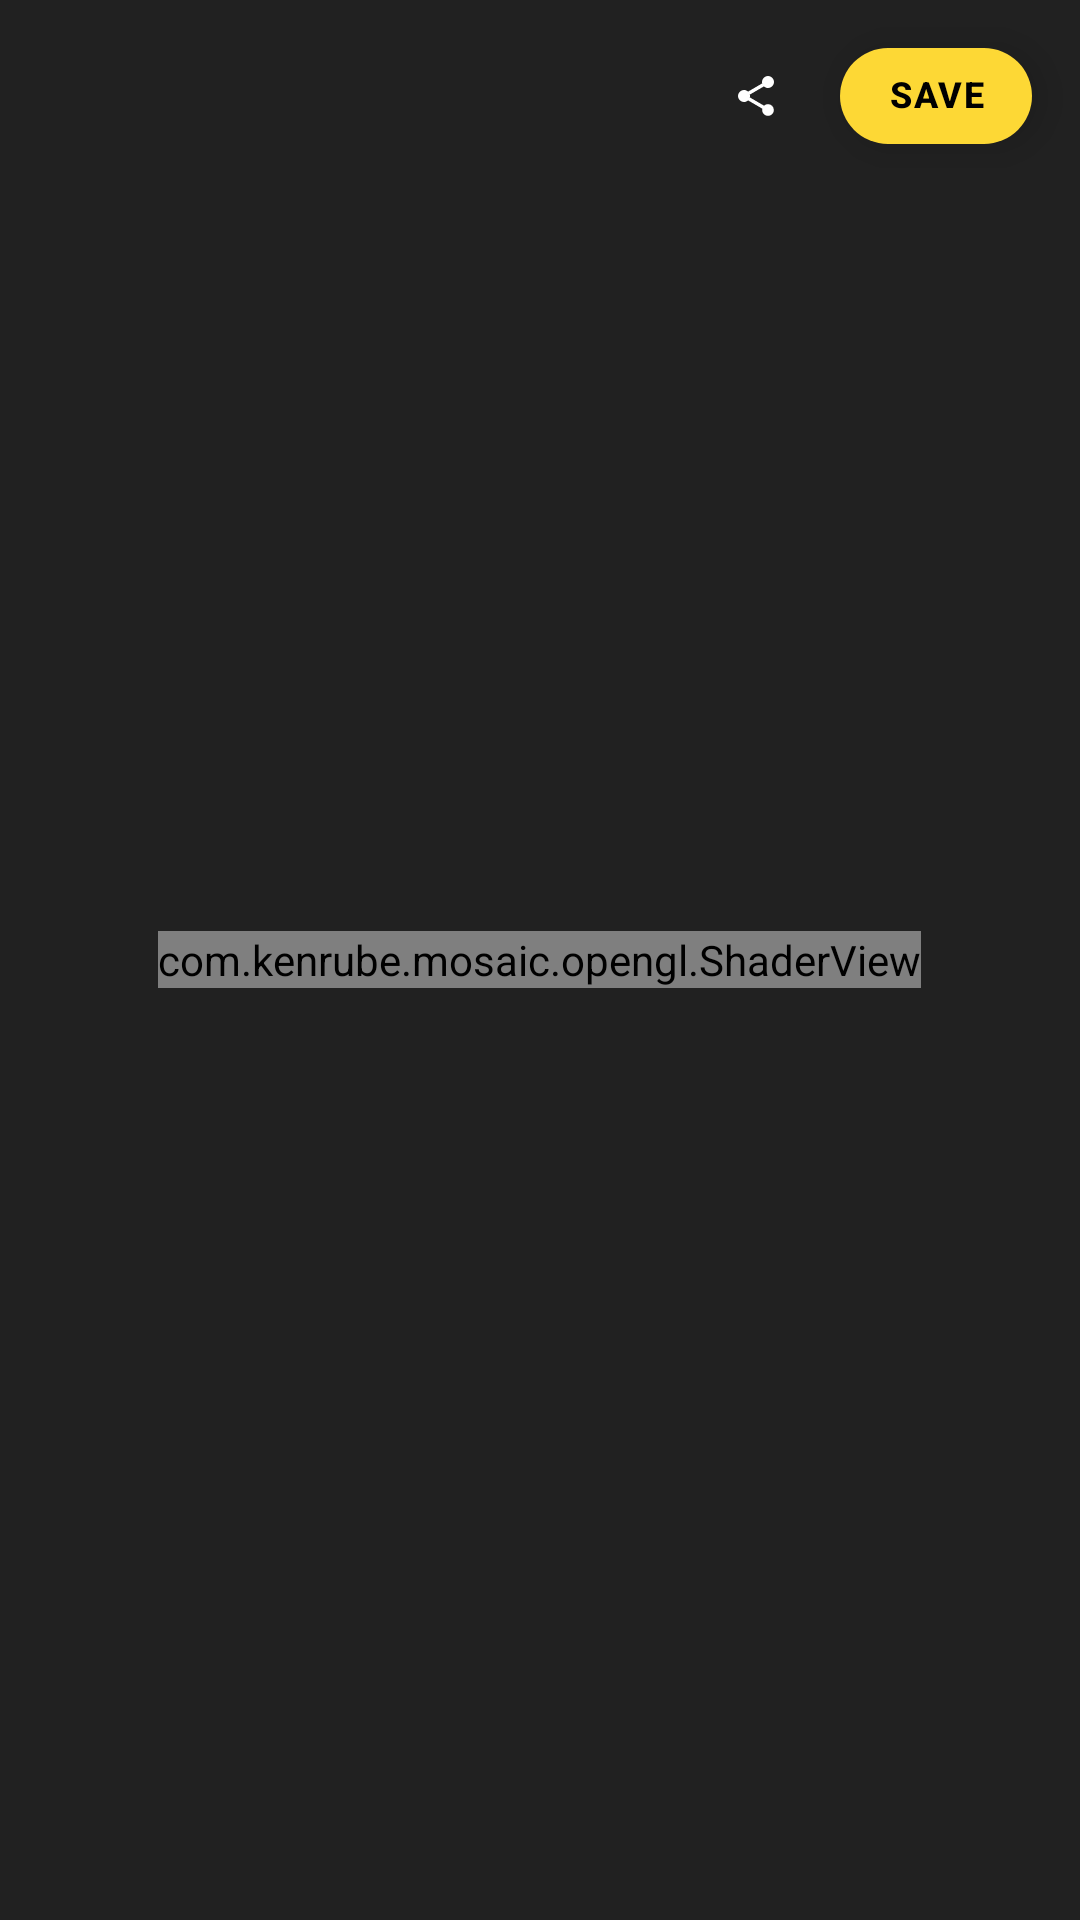

Screen size 1080w x 1920h. Icon name, then its box in pixels as detection(x1, y1, x2, y2):
Share photo: detection(738, 76, 774, 116)
